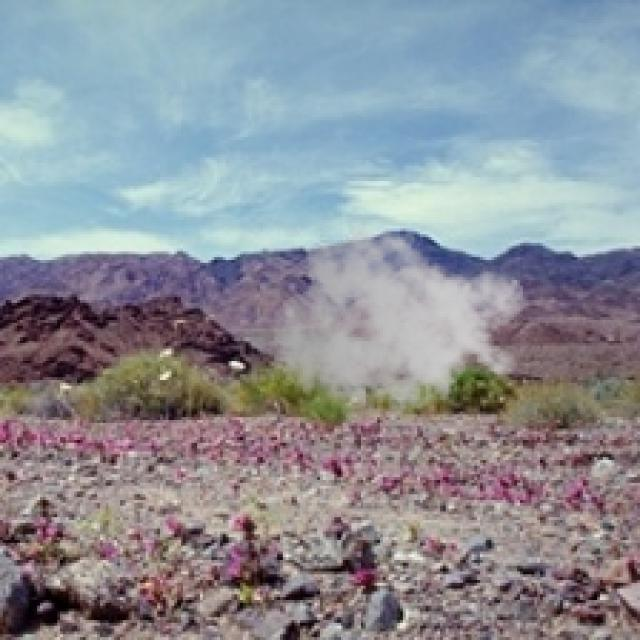smoke: (268, 217, 528, 434)
